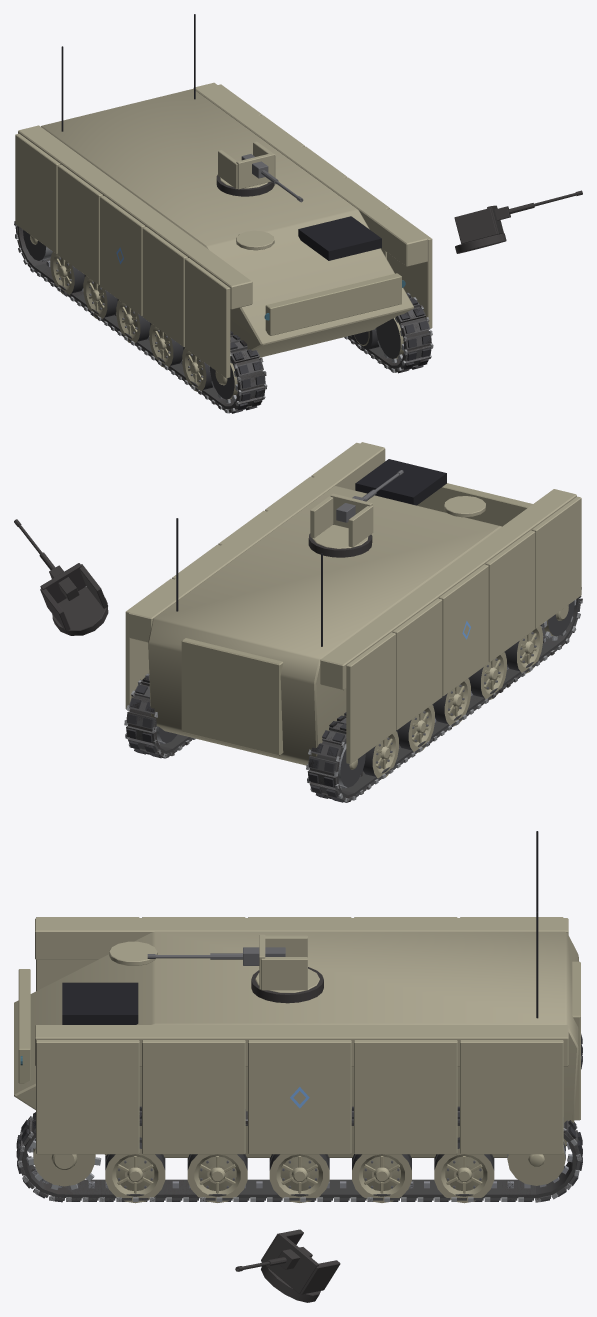
Rendered from apc__k200a1.glb.
The picture shows the model from 3 angles, top to bottom: view 1: azimuth 30°, elevation 25°; view 2: azimuth 150°, elevation 25°; view 3: azimuth 270°, elevation 25°; orthographic projection. The views are drawn at different scales.
Parts seen in each view (by area): view 1: Hull_Mesh, Wreck, Track_L_Mesh, Track_R_Mesh, Turret_Mesh, Wheel_L2_Mesh, Wheel_L1_Mesh, Wheel_L3_Mesh, Wheel_L0_Mesh, Sprocket_R_Mesh, Wheel_L4_Mesh, Sprocket_L_Mesh; view 2: Hull_Mesh, Wreck, Track_L_Mesh, Turret_Mesh, Track_R_Mesh, Wheel_L4_Mesh, Wheel_L2_Mesh, Wheel_L1_Mesh, Wheel_L3_Mesh, Wheel_L0_Mesh, Sprocket_L_Mesh, Idler_L_Mesh (+1 smaller); view 3: Hull_Mesh, Track_R_Mesh, Wreck, Turret_Mesh, Wheel_R4_Mesh, Wheel_R0_Mesh, Wheel_R2_Mesh, Wheel_R3_Mesh, Wheel_R1_Mesh, Sprocket_R_Mesh, Idler_R_Mesh, Gun_Mesh.
Part boxes in pixels (bbox=[...]): Hull_Mesh: bbox=[15, 14, 432, 378]; Wreck: bbox=[14, 174, 582, 412]; Track_L_Mesh: bbox=[14, 221, 267, 413]; Track_R_Mesh: bbox=[344, 293, 433, 373]; Turret_Mesh: bbox=[218, 141, 275, 189]; Wheel_L2_Mesh: bbox=[116, 300, 151, 343]; Wheel_L1_Mesh: bbox=[83, 276, 118, 318]; Wheel_L3_Mesh: bbox=[149, 324, 184, 367]; Wheel_L0_Mesh: bbox=[50, 252, 85, 294]; Sprocket_R_Mesh: bbox=[375, 317, 403, 363]; Wheel_L4_Mesh: bbox=[182, 348, 212, 391]; Sprocket_L_Mesh: bbox=[208, 360, 237, 403]; Hull_Mesh: bbox=[125, 442, 581, 765]; Wreck: bbox=[14, 519, 582, 802]; Track_L_Mesh: bbox=[306, 587, 582, 802]; Turret_Mesh: bbox=[310, 493, 373, 548]; Track_R_Mesh: bbox=[124, 674, 195, 758]; Wheel_L4_Mesh: bbox=[504, 626, 542, 673]; Wheel_L2_Mesh: bbox=[432, 678, 470, 726]; Wheel_L1_Mesh: bbox=[396, 705, 434, 752]; Wheel_L3_Mesh: bbox=[468, 652, 506, 700]; Wheel_L0_Mesh: bbox=[362, 731, 398, 779]; Sprocket_L_Mesh: bbox=[540, 599, 576, 640]; Idler_L_Mesh: bbox=[338, 744, 365, 787]; Hull_Mesh: bbox=[14, 831, 580, 1157]; Track_R_Mesh: bbox=[16, 1106, 582, 1202]; Wreck: bbox=[16, 967, 582, 1302]; Turret_Mesh: bbox=[255, 934, 319, 992]; Wheel_R4_Mesh: bbox=[105, 1137, 165, 1203]; Wheel_R0_Mesh: bbox=[434, 1137, 494, 1203]; Wheel_R2_Mesh: bbox=[269, 1154, 329, 1202]; Wheel_R3_Mesh: bbox=[187, 1154, 247, 1202]; Wheel_R1_Mesh: bbox=[352, 1154, 411, 1202]; Sprocket_R_Mesh: bbox=[27, 1139, 101, 1190]; Idler_R_Mesh: bbox=[507, 1140, 565, 1185]; Gun_Mesh: bbox=[147, 947, 285, 965].
Size of what is drawn, in the model's own units: 6.22 by 2.97 by 5.6.
